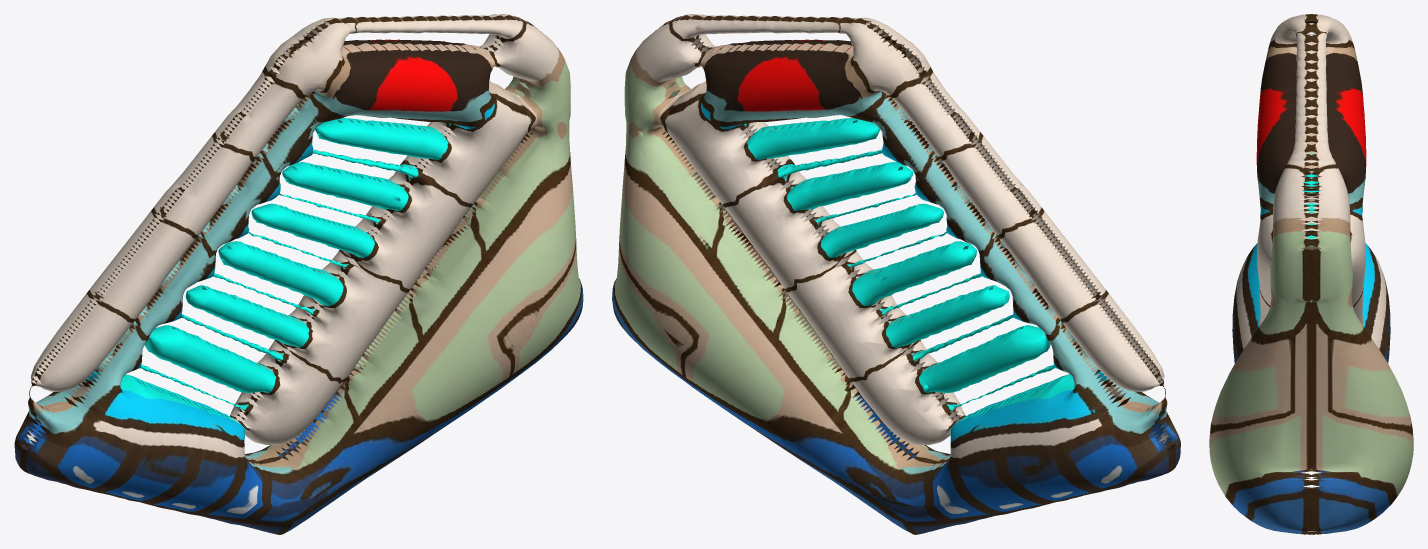
File: transfer_ramp.glb
3 views of the same model, side by side, from view 1: azimuth 30°, elevation 25°; view 2: azimuth 150°, elevation 25°; view 3: azimuth 270°, elevation 25° (orthographic). The views are drawn at different scales.
Visible parts, largest first — view 1: transfer_ramp; view 2: transfer_ramp; view 3: transfer_ramp.
Part boxes in pixels (box(x1,y1,x2,y2)): transfer_ramp: box(14, 14, 583, 534); transfer_ramp: box(612, 14, 1180, 534); transfer_ramp: box(1209, 14, 1413, 534).
Size of the model in its own units: 0.9886 by 0.853 by 0.2866.
Materials: 1 (1 with a texture image).
